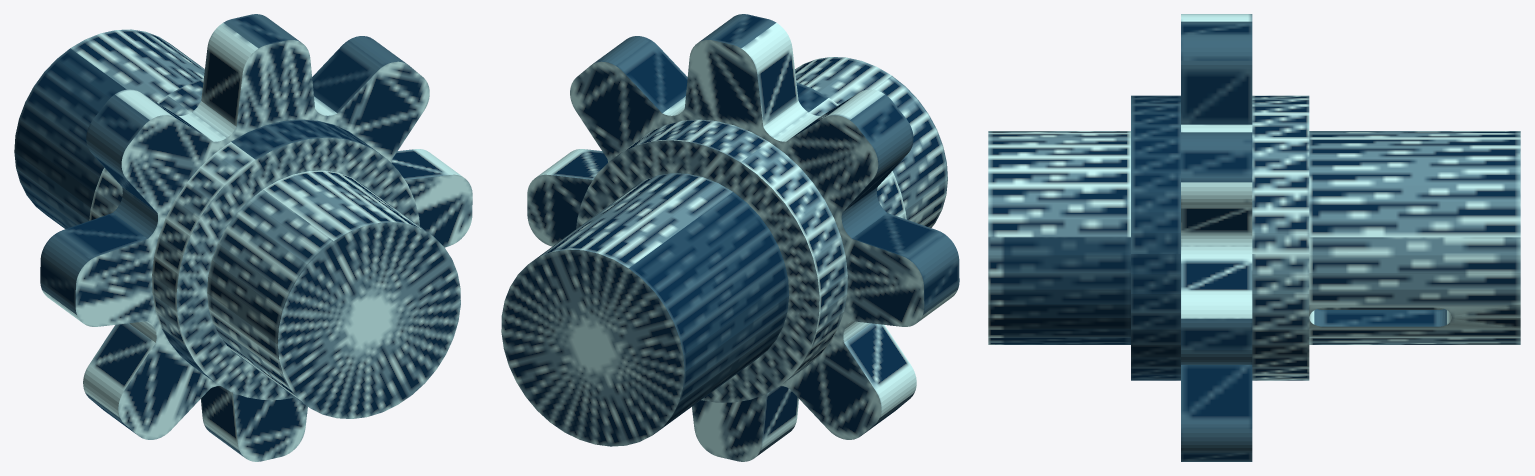
Rendered from Mold4-Pinion shaft-M.glb.
The picture shows the model from 3 angles, left to right: view 1: azimuth 30°, elevation 25°; view 2: azimuth 150°, elevation 25°; view 3: azimuth 270°, elevation 25°; orthographic projection.
Parts seen in each view (by area): view 1: GERGTGQ - ARBRE-1; view 2: GERGTGQ - ARBRE-1; view 3: GERGTGQ - ARBRE-1.
Part boxes in pixels (x1,y1,x2,y2): GERGTGQ - ARBRE-1: (14, 14, 472, 461); GERGTGQ - ARBRE-1: (501, 14, 959, 461); GERGTGQ - ARBRE-1: (988, 14, 1520, 461).
Size of the model in its own units: 2.31 by 2.31 by 2.66.
Materials: 1 (1 with a texture image).
